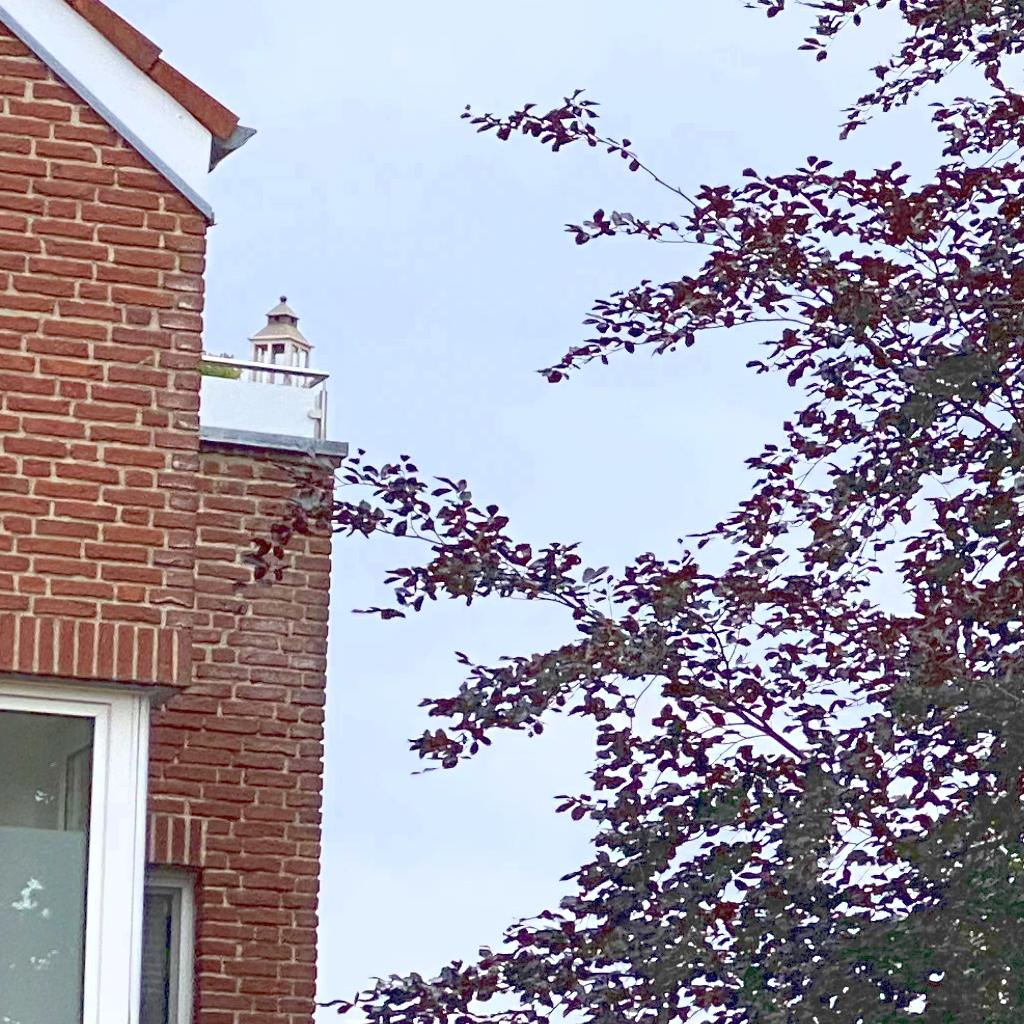tree: (227, 1, 1023, 1023)
